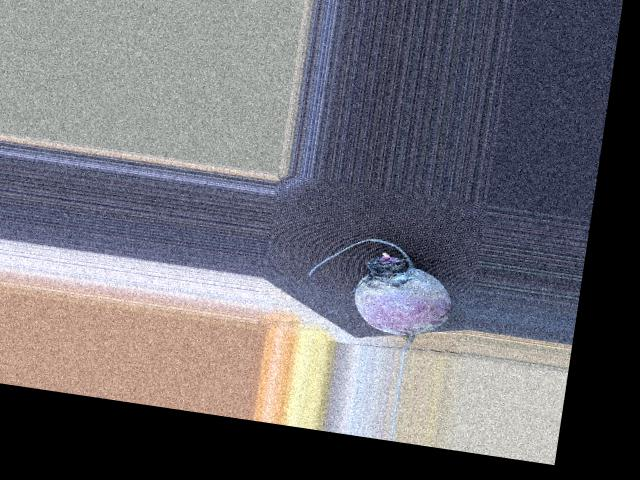beet: (299, 229, 459, 358)
